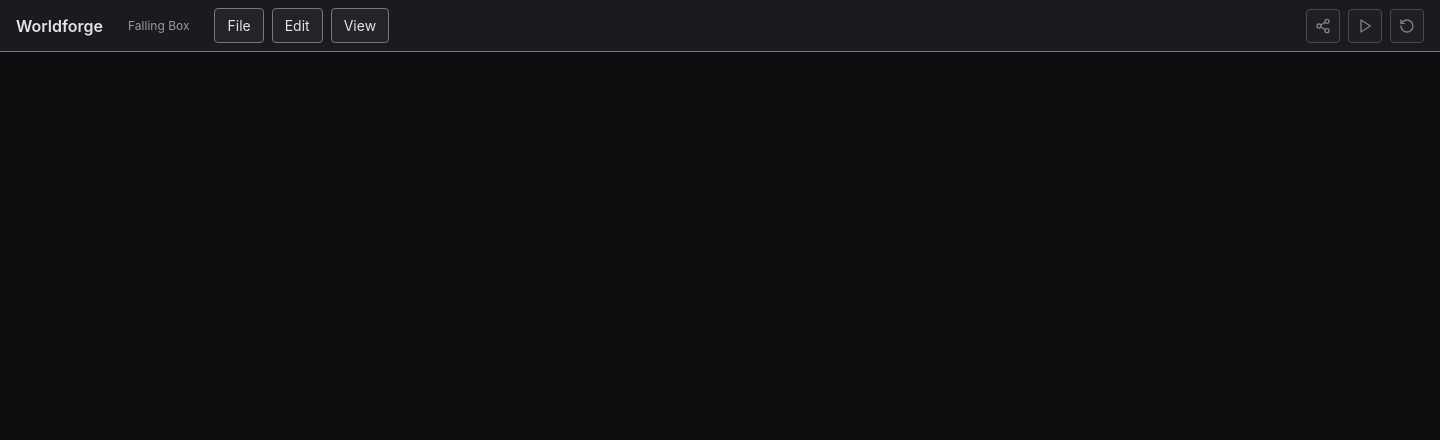
Scenario: Toolbar — File menu / Save + Load (D8/D9, M6.5) › reads "Save as new scene" for a never-saved draft
Click the button "File": click(239, 26) [214,8,264,43]
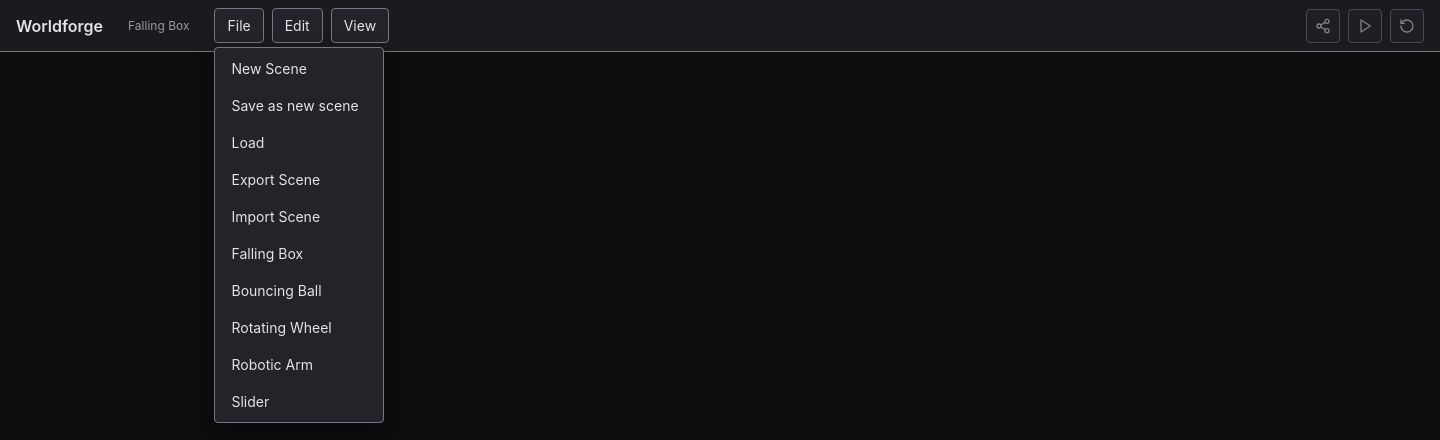
Expected: the button "Save as new scene" is shown, [220,89,380,122]
